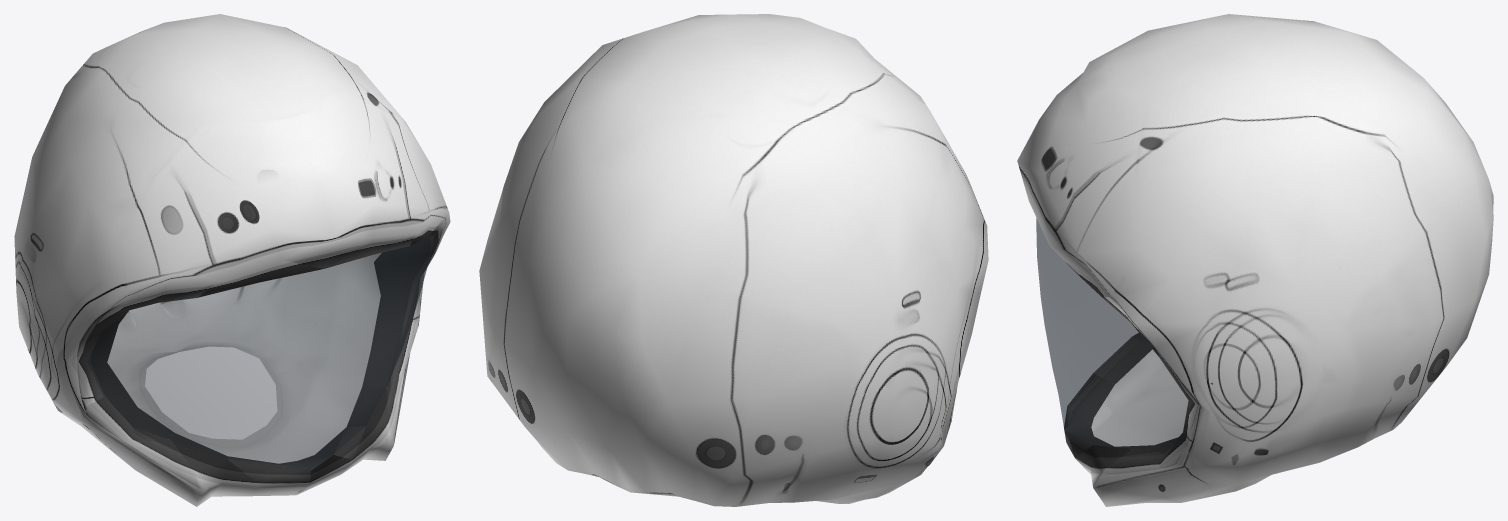
File: VacsuitHelmet.glb
3 views of the same model, side by side, from view 1: azimuth 30°, elevation 25°; view 2: azimuth 150°, elevation 25°; view 3: azimuth 270°, elevation 25° (orthographic). The views are drawn at different scales.
Parts seen in each view (by area): view 1: VacsuitHelmet; view 2: VacsuitHelmet; view 3: VacsuitHelmet.
Boxes of the visible parts, x1,y1,x2,y2 form: VacsuitHelmet: (14, 14, 450, 506); VacsuitHelmet: (479, 14, 988, 506); VacsuitHelmet: (1017, 14, 1493, 506).
Bounding box in the file's own units: 10.4 × 10.79 × 10.8.
2 materials, 1 textured.
